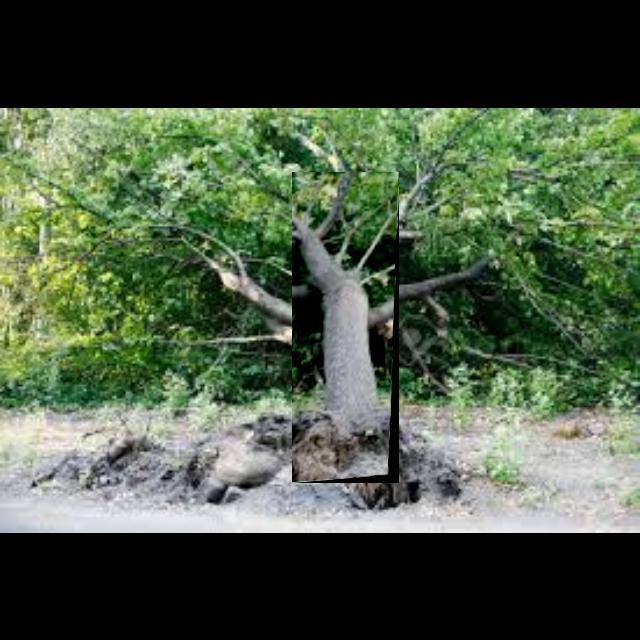fallen_tree: (292, 172, 400, 484)
